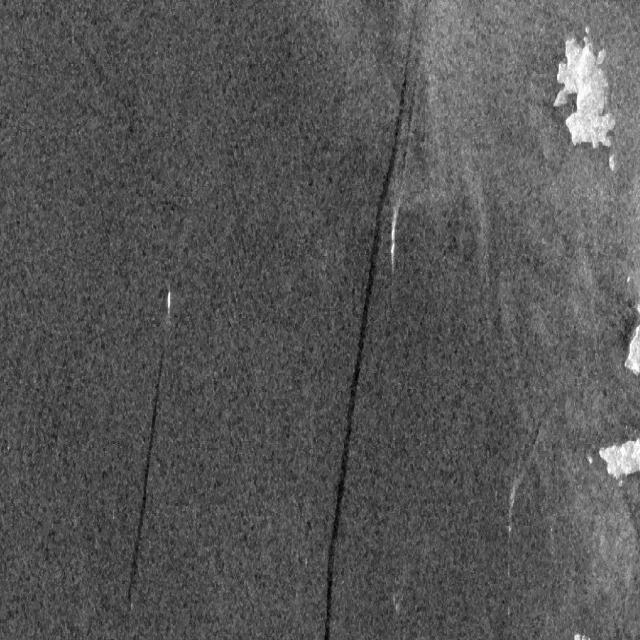oil-spill: (318, 13, 408, 640), (122, 346, 180, 623)
